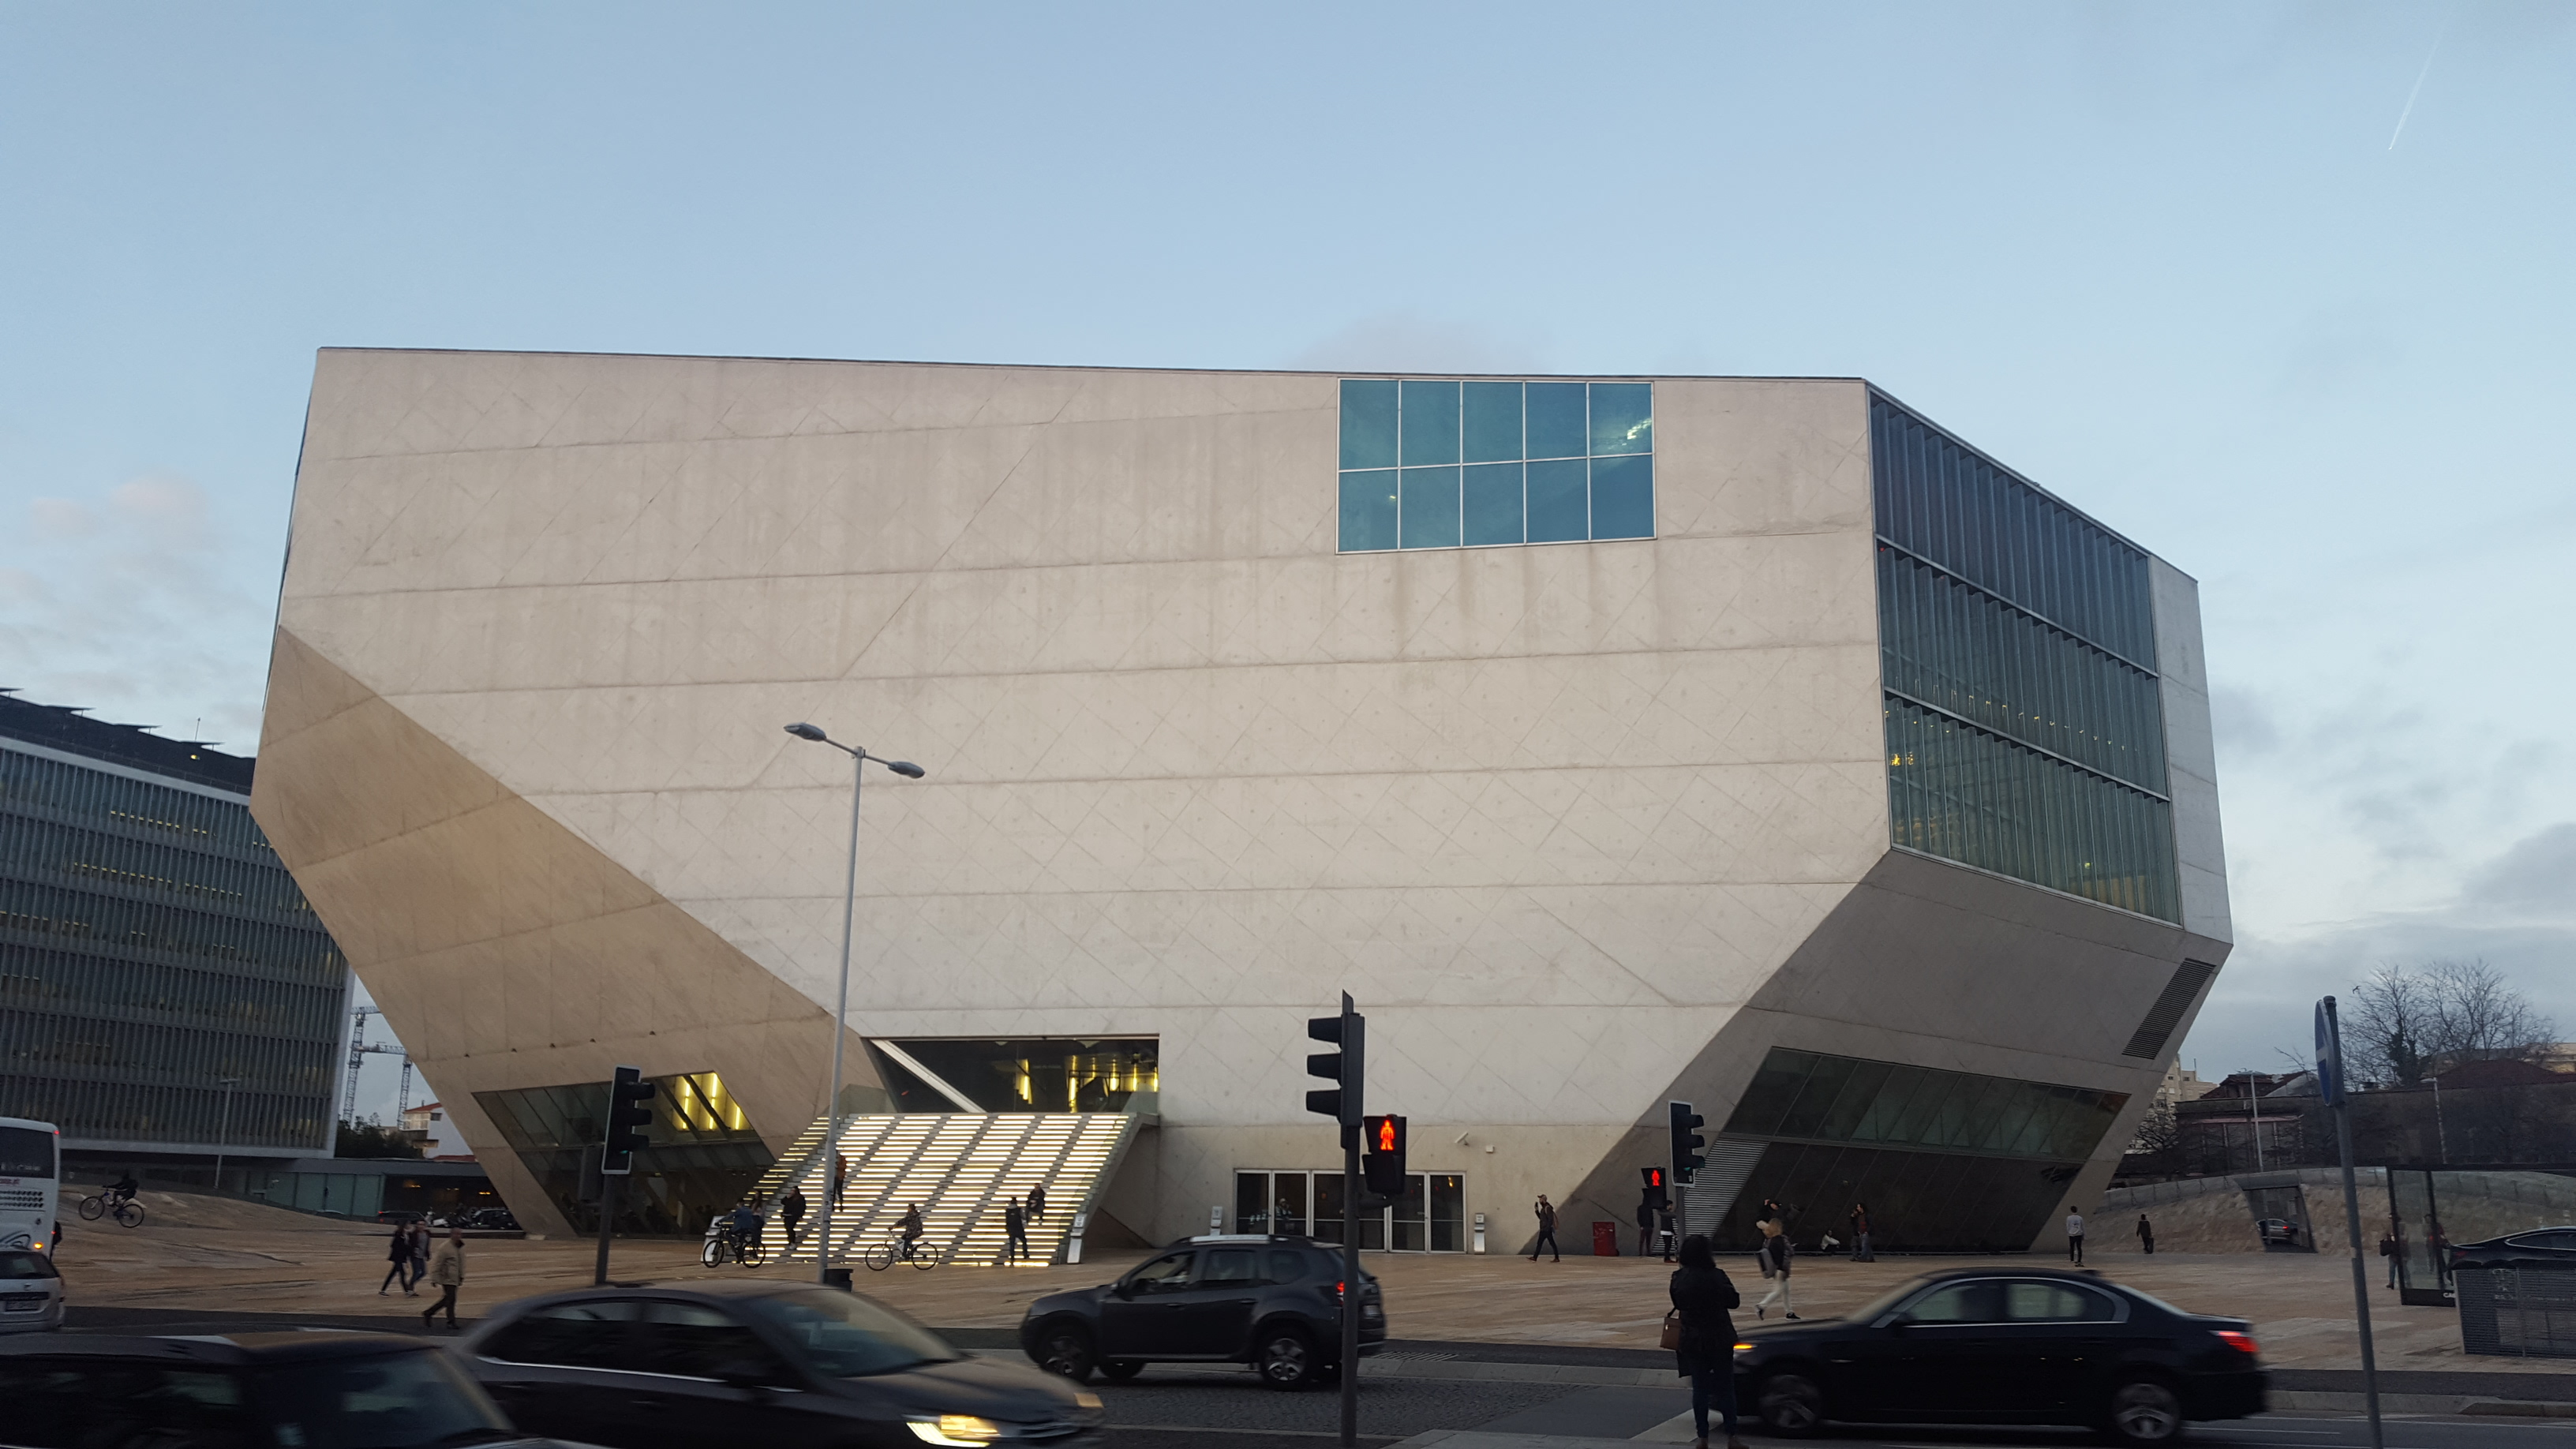musica: (249, 352, 2114, 1263)
